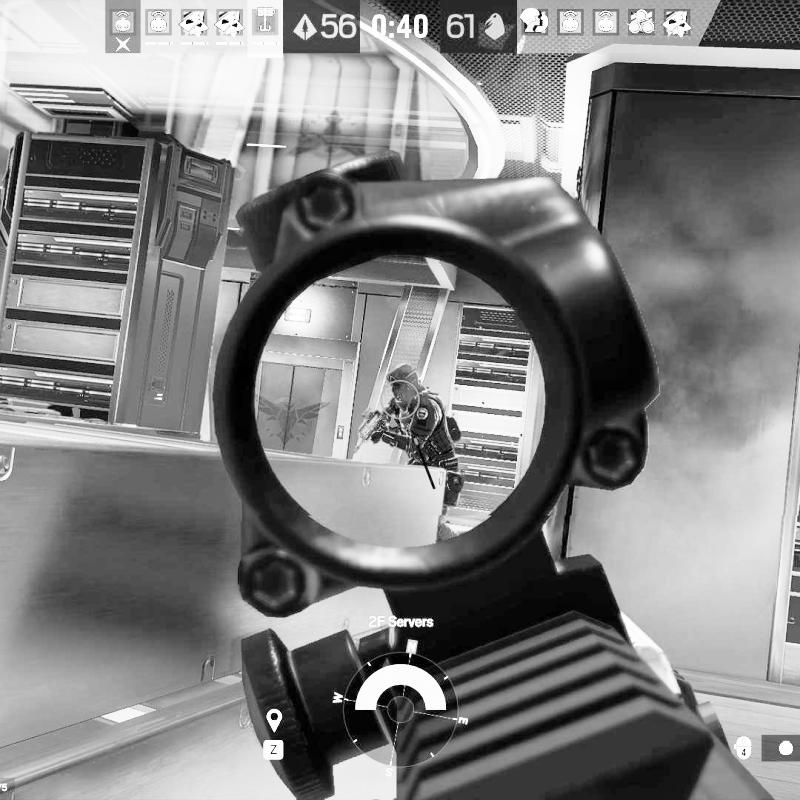Character: (350, 361, 466, 545), (509, 423, 509, 423)
Head: (386, 363, 426, 403)
